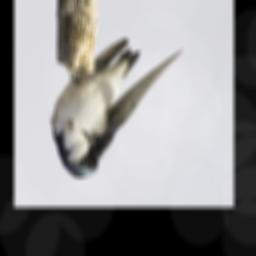Swallow: (49, 37, 183, 180)
